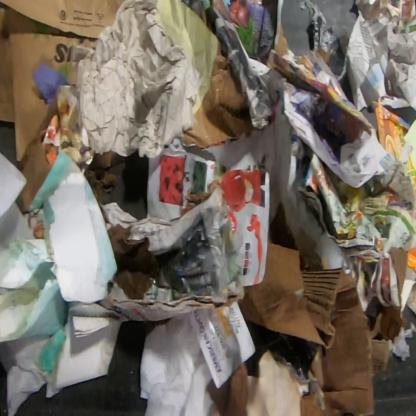cardboard: (237, 240, 403, 415), (96, 185, 244, 323), (178, 38, 260, 149), (368, 94, 416, 199), (14, 116, 63, 214), (298, 0, 348, 86), (383, 245, 416, 322), (205, 361, 251, 415), (273, 22, 291, 57)
soft_plastic: (387, 320, 416, 362)
